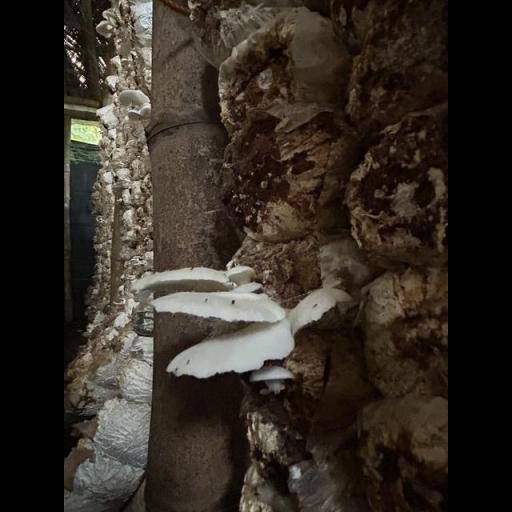White Oyster Mushroom: (133, 244, 350, 395)
